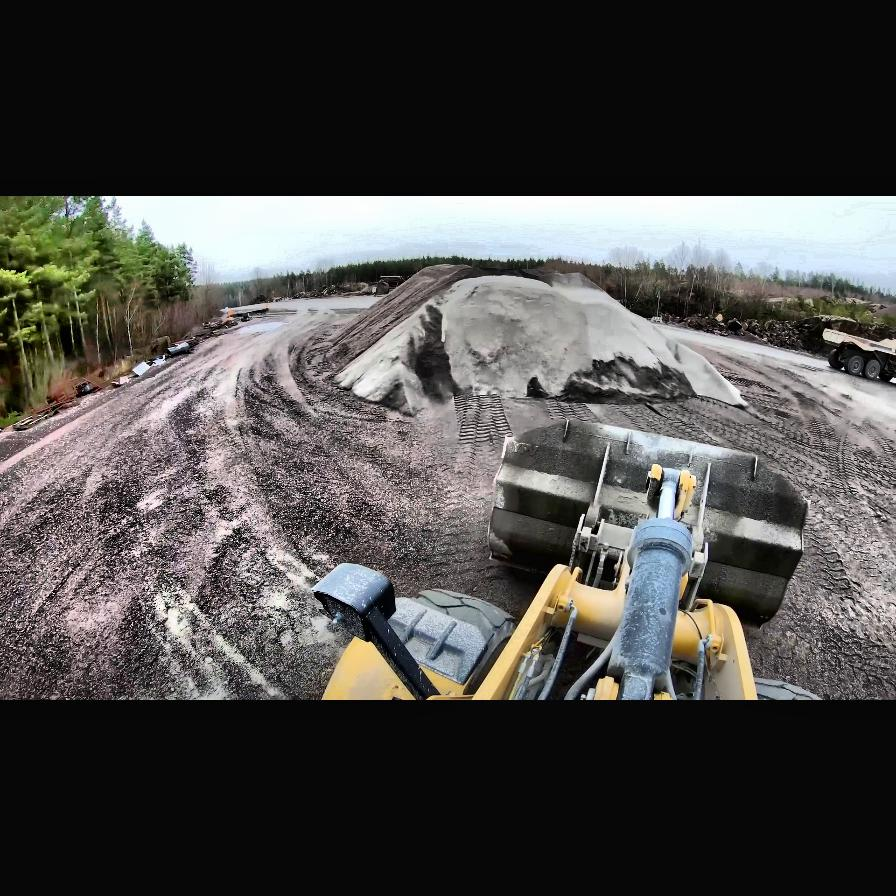anchor: (648, 466, 696, 522)
pile of gravel: (330, 262, 750, 420)
